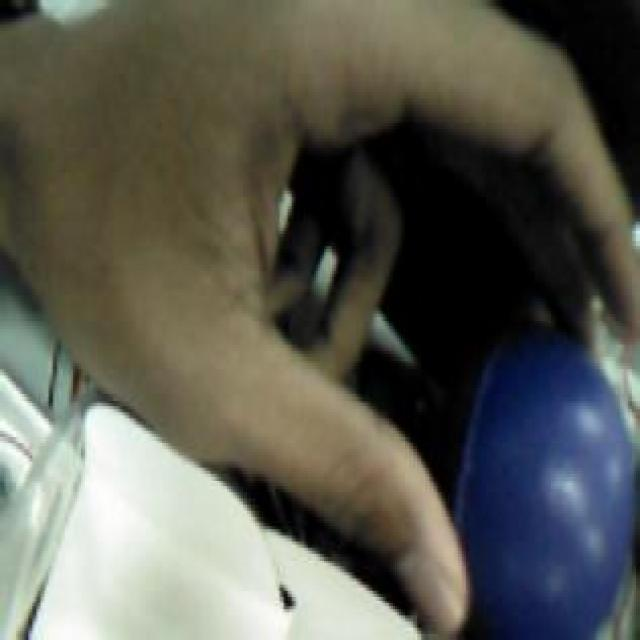BallPurple: (402, 333, 635, 637)
